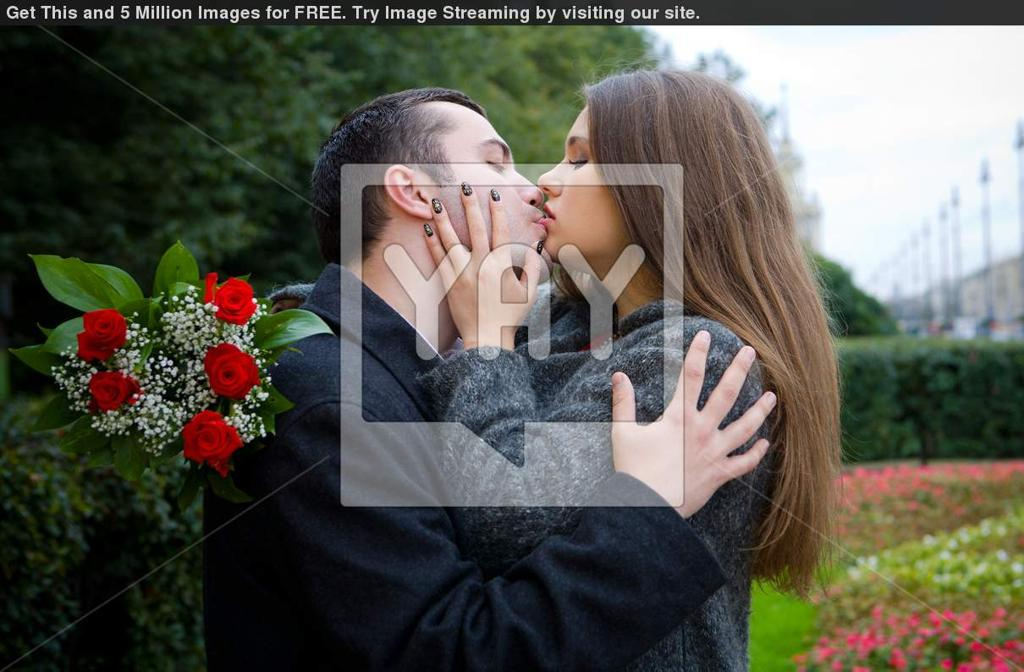face: (422, 98, 544, 264), (540, 98, 640, 256)
